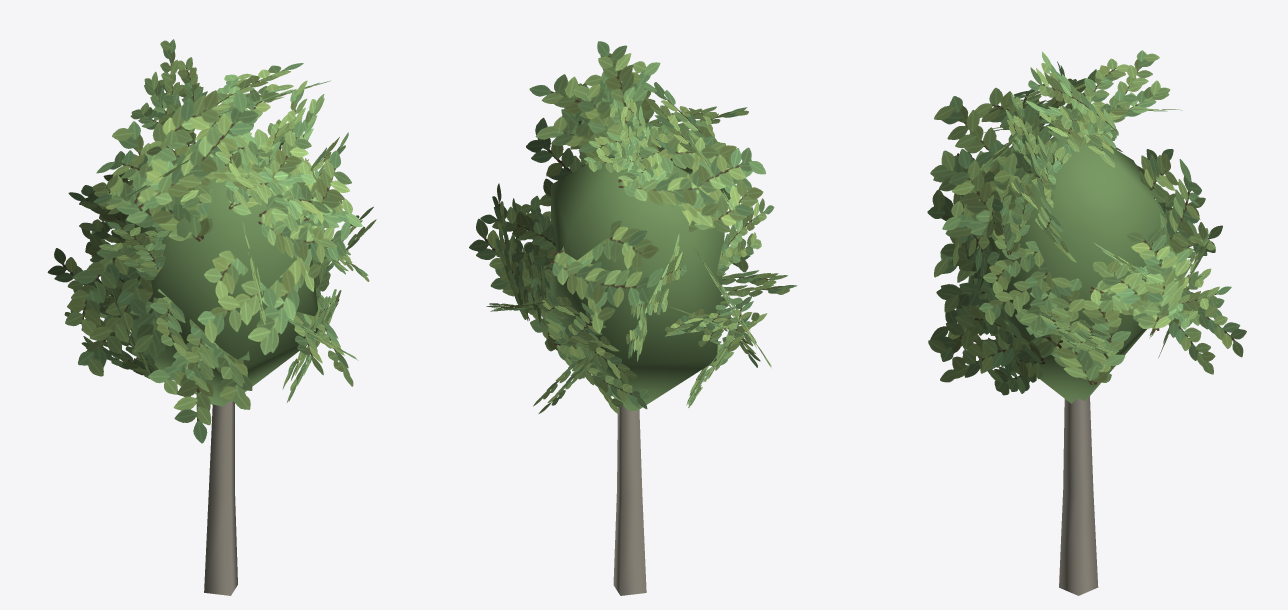
Rendered from POPULUS_2.glb.
The picture shows the model from 3 angles, left to right: view 1: azimuth 30°, elevation 25°; view 2: azimuth 150°, elevation 25°; view 3: azimuth 270°, elevation 25°; orthographic projection. The views are drawn at different scales.
Visible parts, largest first — view 1: Arv_POPULUS_lod2; view 2: Arv_POPULUS_lod2; view 3: Arv_POPULUS_lod2.
Part boxes in pixels (x1,y1,x2,y2): Arv_POPULUS_lod2: (47,39,376,595); Arv_POPULUS_lod2: (469,41,796,595); Arv_POPULUS_lod2: (927,50,1246,595).
Bounding box in the file's own units: 7.09 × 11.2 × 7.15.
Materials: 3 (1 with a texture image).
